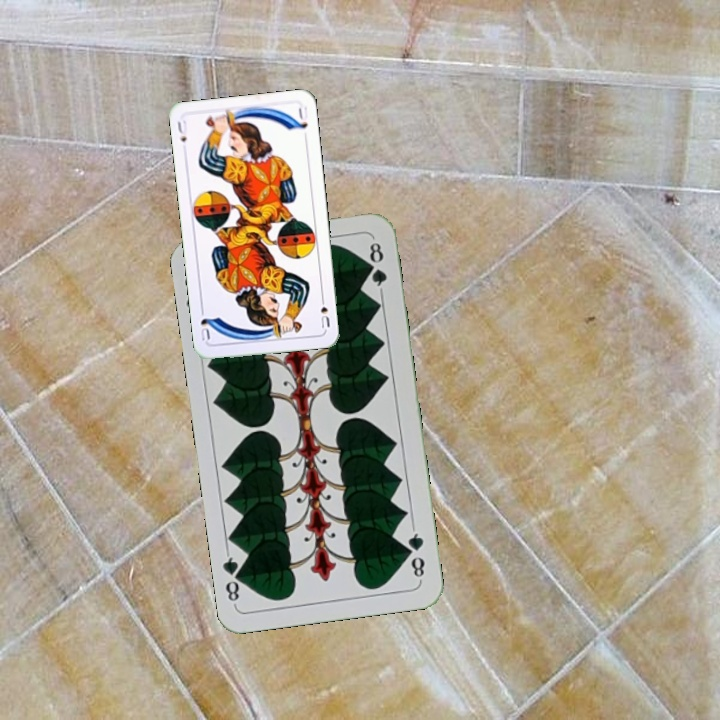G8: (403, 524, 428, 583)
SU: (314, 291, 332, 331), (173, 116, 190, 145)
